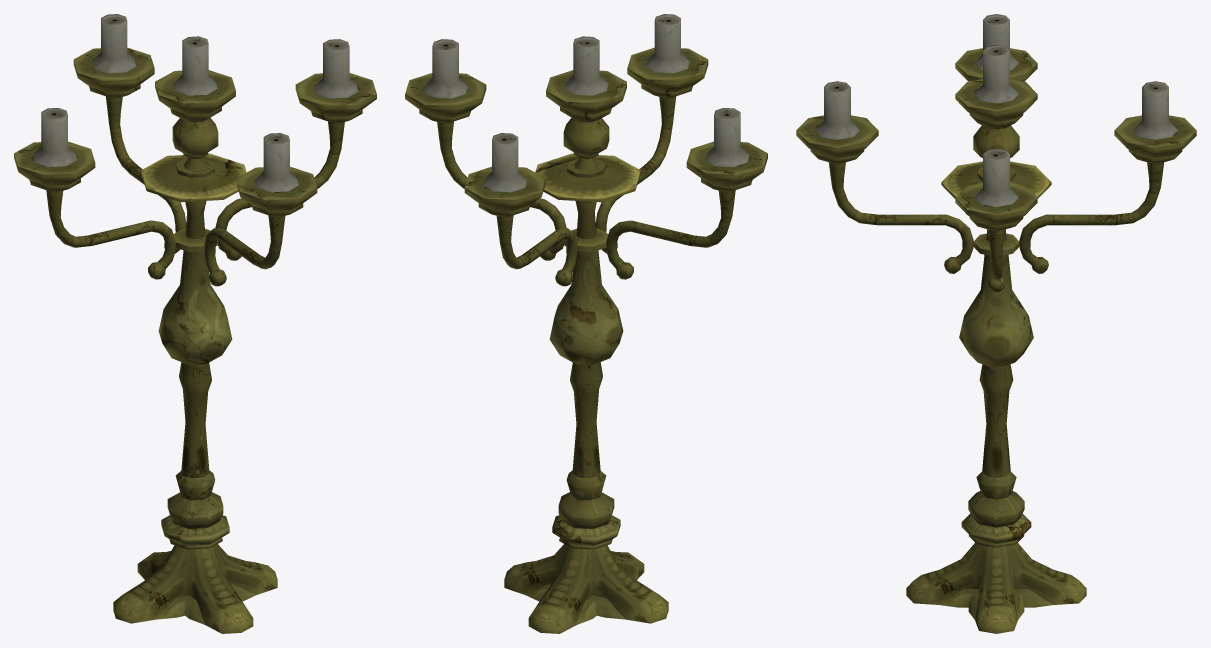
Rendered from Chandelabra.DAE.
3 renders of one model, left to right at view 1: azimuth 30°, elevation 25°; view 2: azimuth 150°, elevation 25°; view 3: azimuth 270°, elevation 25°, orthographic. The views are drawn at different scales.
Visible parts, largest first — view 1: Object004; view 2: Object004; view 3: Object004.
Boxes of the visible parts, x1=… form: Object004: x1=14, y1=14, x2=376, y2=633; Object004: x1=405, y1=14, x2=767, y2=633; Object004: x1=796, y1=14, x2=1196, y2=633.
Size of the model in its own units: 0.1619 by 0.1619 by 0.2433.
